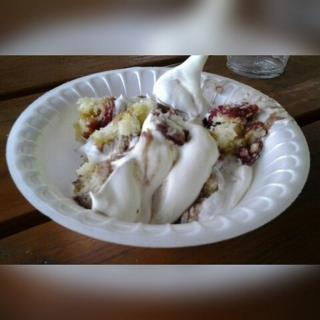Ice cream: (60, 71, 244, 241)
